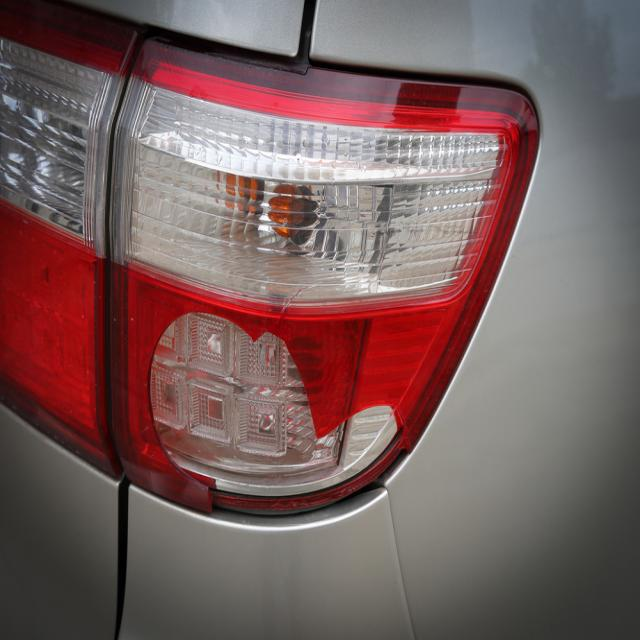Phare abime: (150, 289, 416, 515)
